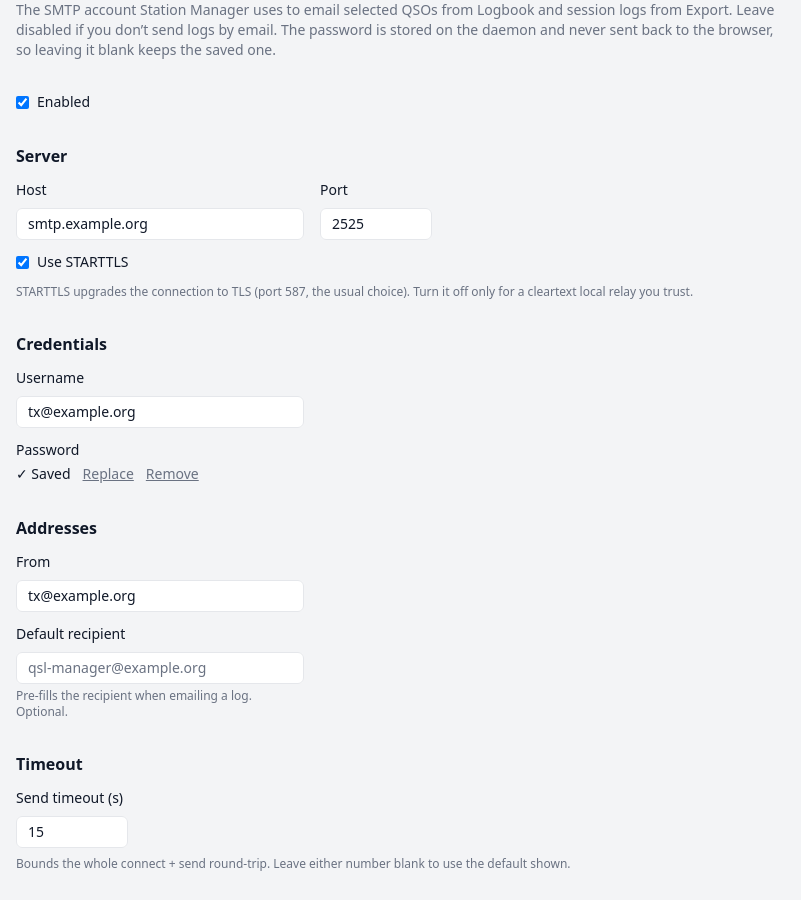
Test: EmailSection › U5: warns that changes apply at daemon restart
Expected: the text "apply when the daemon restarts" is not shown
Step 1. Type "new.example.org" into the field with placeholder "smtp.example.org" → (160, 224), box [16,208,304,240]
(page scrolled)
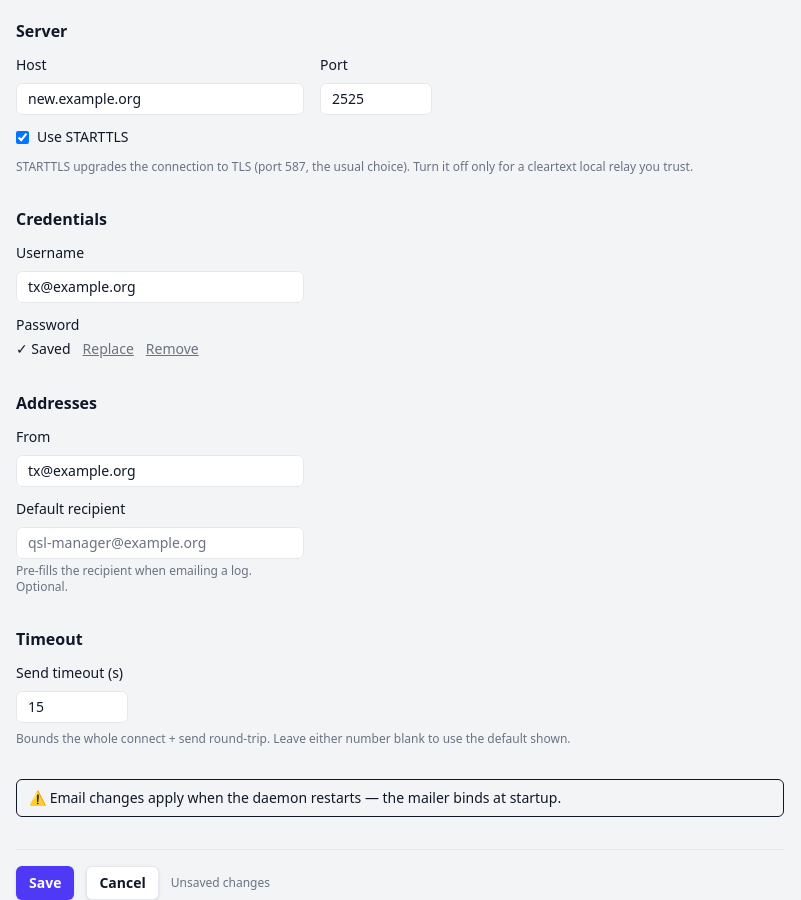
Expected: the text "apply when the daemon restarts" is shown, [29,788,561,807]
